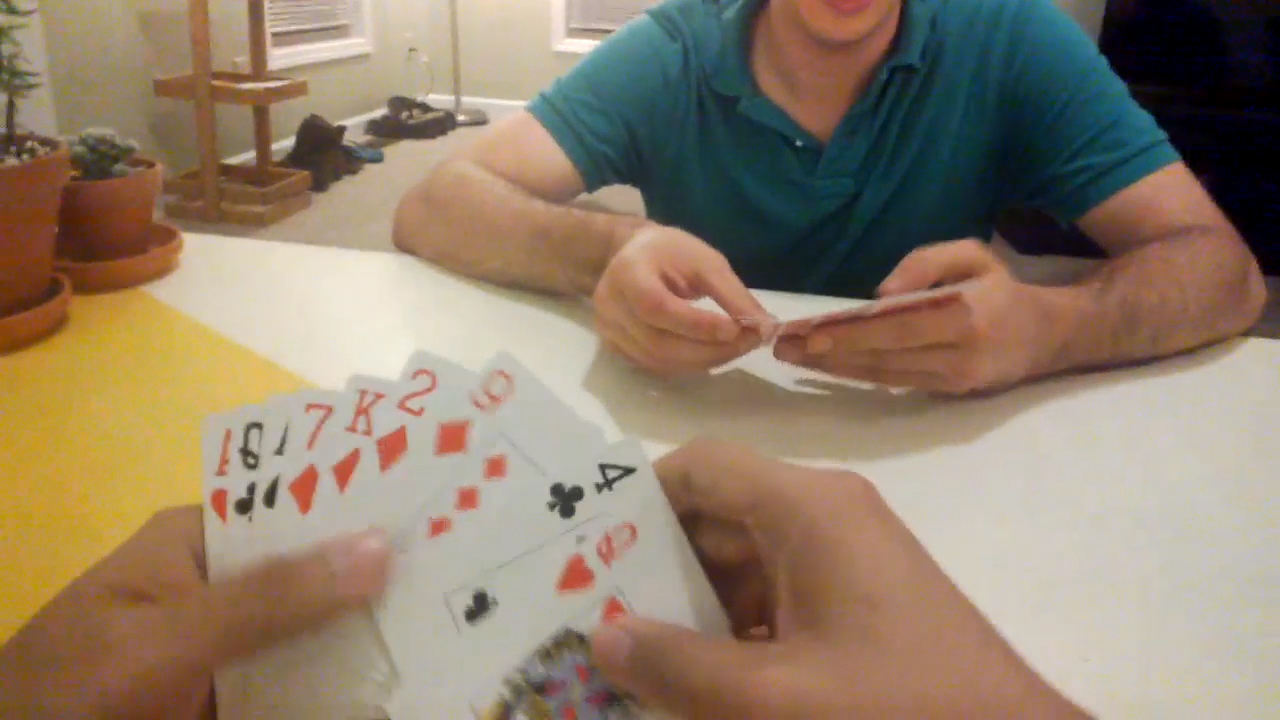hand: (593, 448, 1080, 718), (1, 507, 394, 718), (767, 241, 1045, 398), (587, 222, 773, 369)
